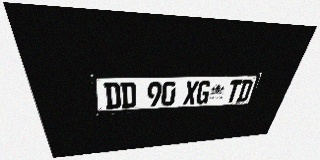0: (161, 81, 177, 106)
9: (147, 81, 162, 107)
D: (104, 82, 121, 109), (120, 82, 136, 108), (236, 80, 254, 102)
G: (195, 80, 212, 104)
T: (225, 80, 243, 103)
X: (183, 81, 199, 105)
